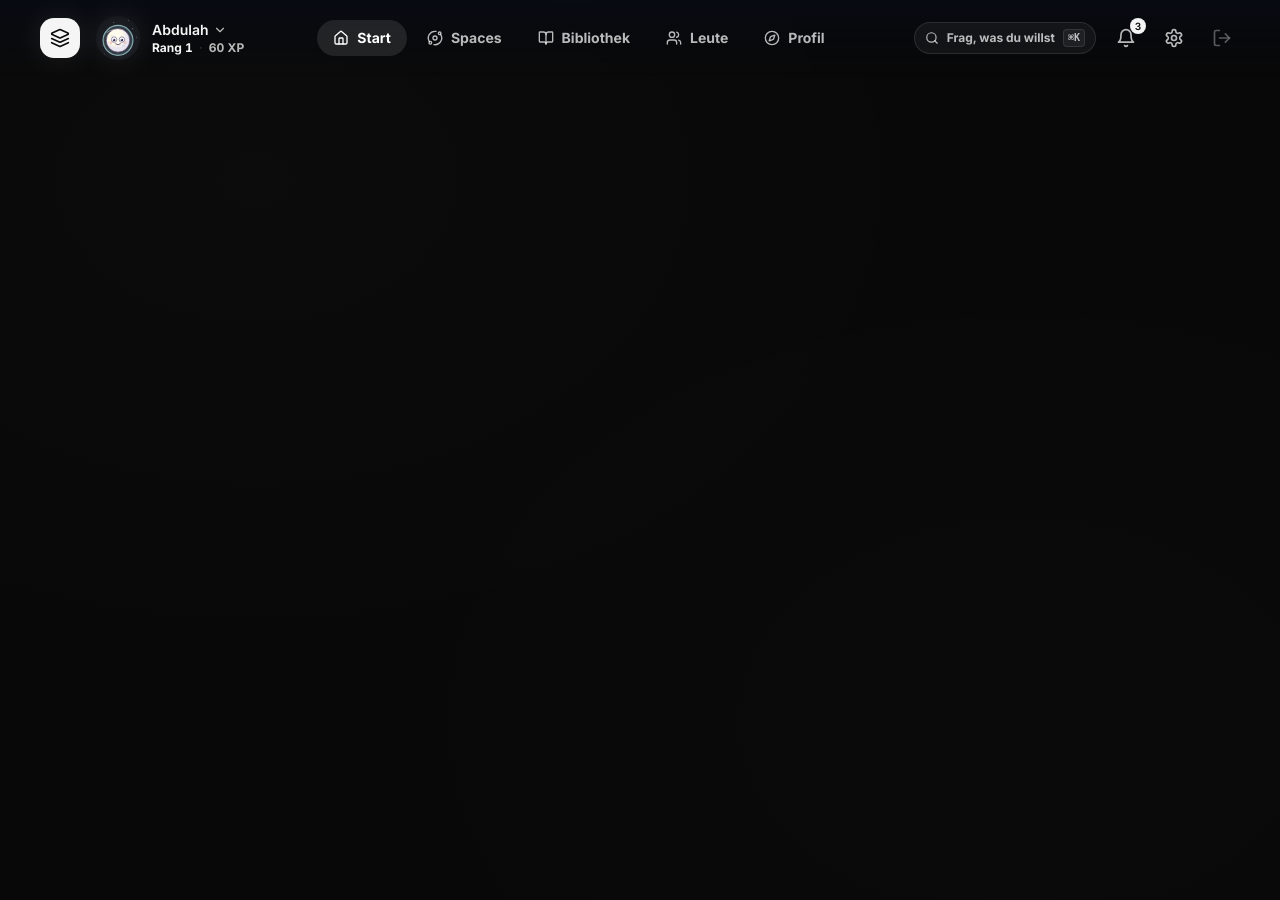
Test case: the shell, in German › the notification panel says its chrome in German
Click the button "3". click: x=1126, y=38
box: [1108, 20, 1144, 56]
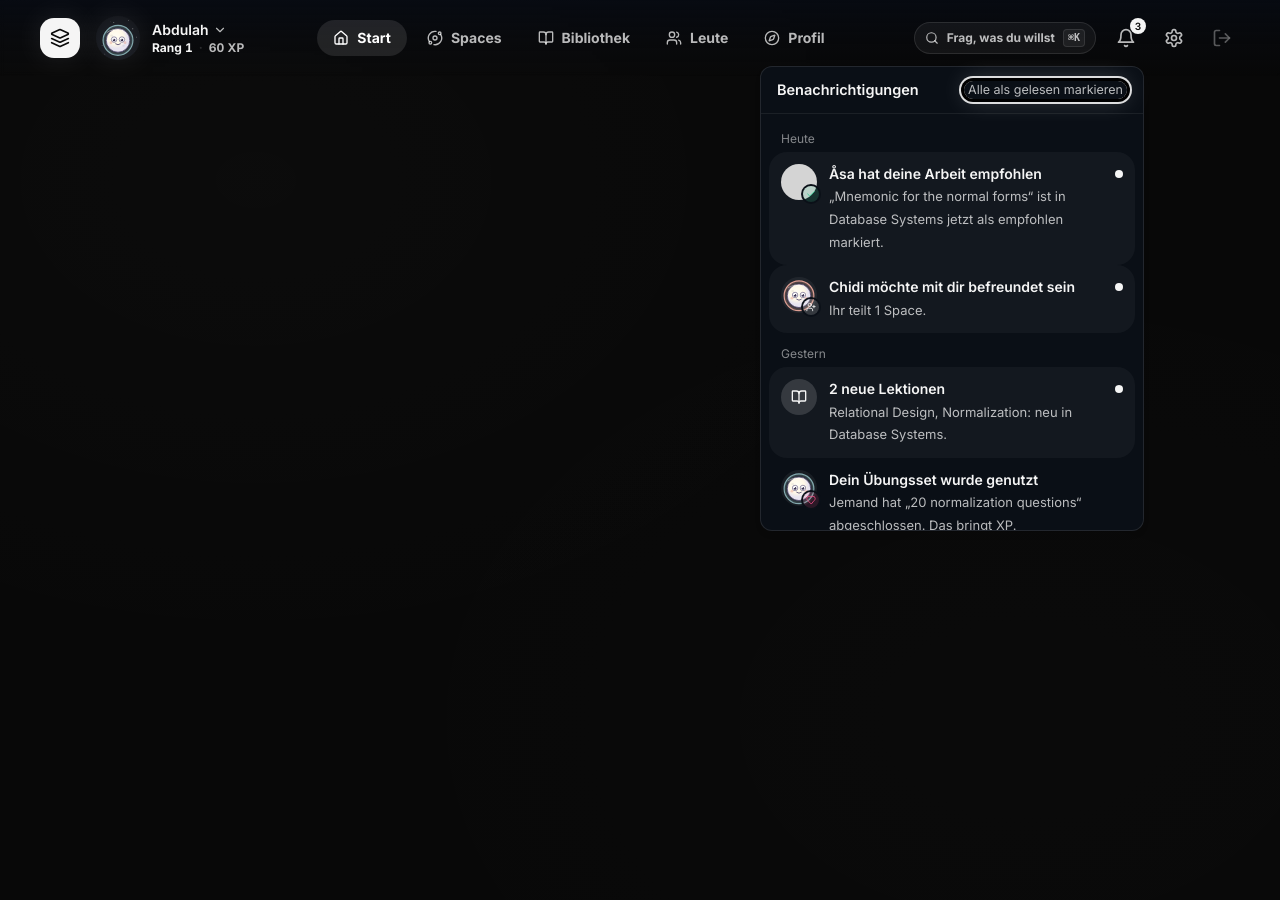
Check: the button "Alle als gelesen markieren" is shown, box [964, 80, 1127, 99]
Check: the text "Benachrichtigungen" is shown, box [777, 79, 919, 101]
